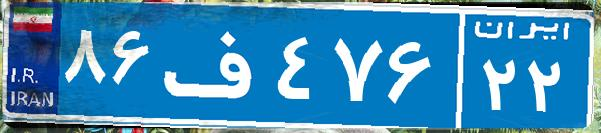2: (475, 38, 525, 113), (525, 38, 570, 115)
4: (273, 28, 330, 110)
6: (385, 28, 445, 110), (110, 28, 158, 105)
7: (330, 28, 385, 110)
8: (57, 26, 110, 107)
ف: (158, 15, 273, 115)
